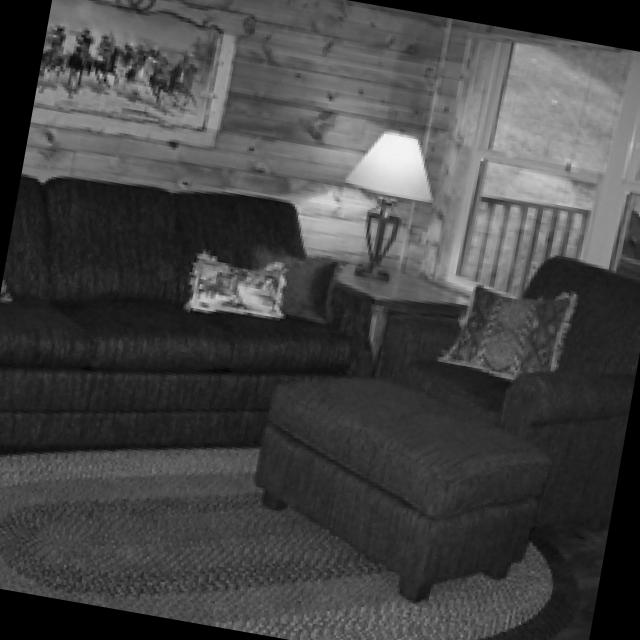2001: (449, 42, 640, 287)
armchair crop: (382, 253, 640, 521)
lamp crop: (350, 129, 436, 280)
ottoman: (254, 372, 551, 603)
painting crop: (36, 0, 258, 147)
pillow occluded: (445, 282, 578, 374), (257, 247, 343, 317), (190, 254, 286, 314)
rug -partially obscured-: (0, 444, 582, 640)
small table part: (337, 267, 473, 356)
sofa bed: (0, 175, 378, 450)
